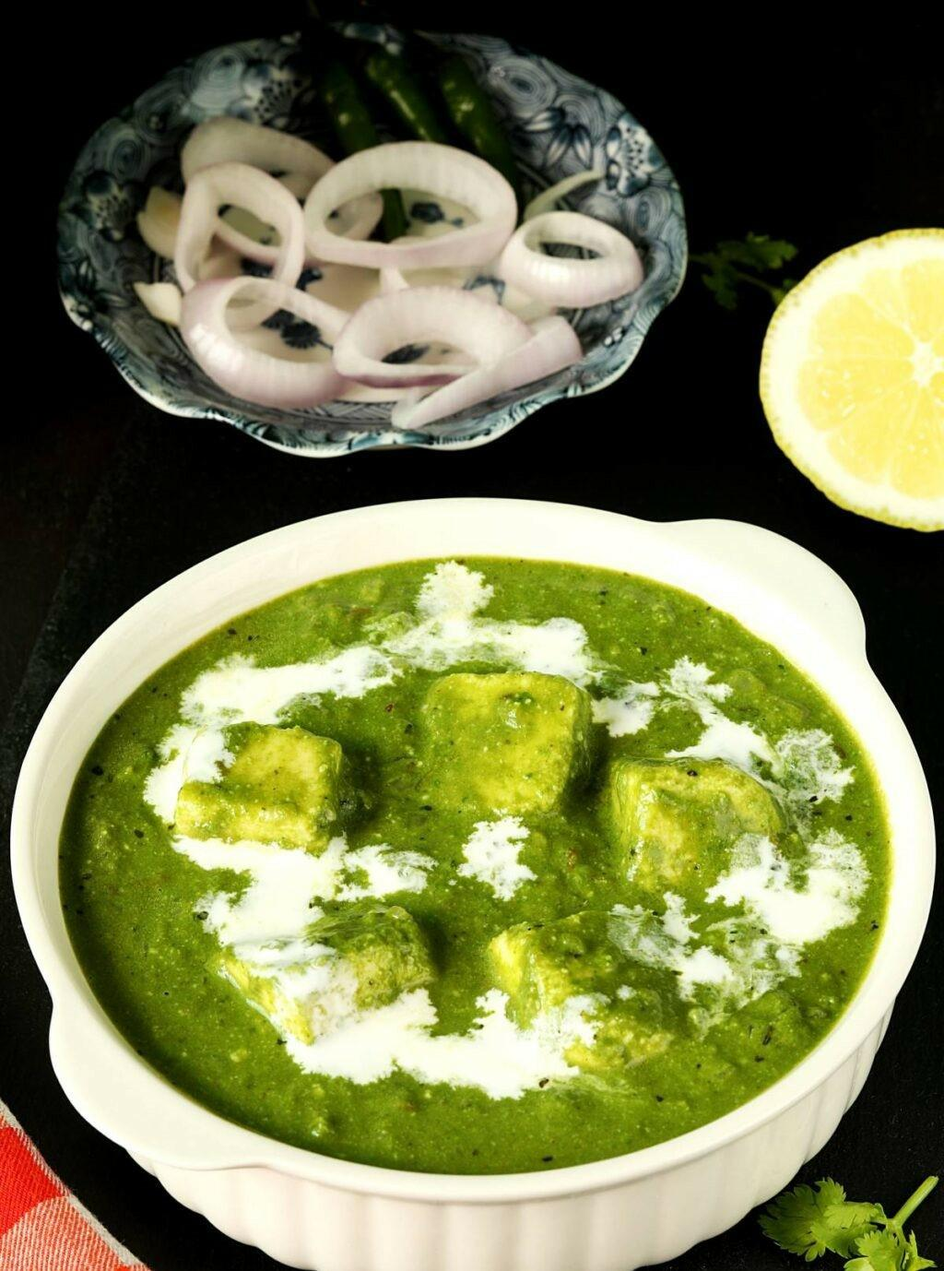PalakPaneer: (61, 554, 885, 1175)
